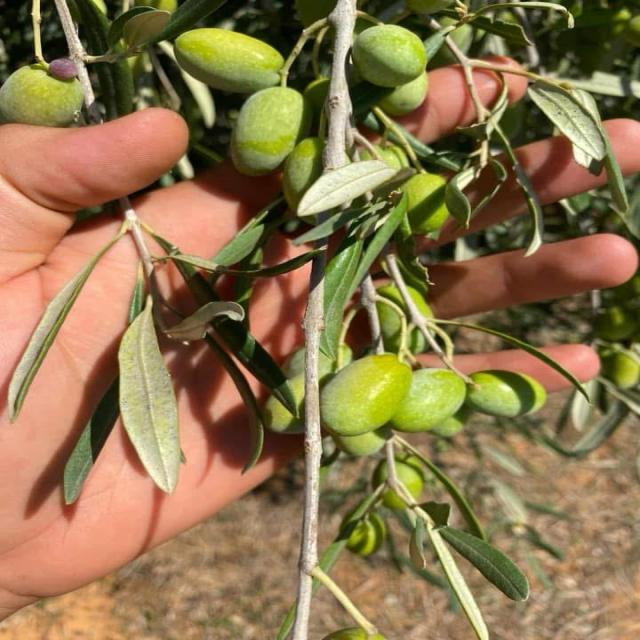Healthy: (321, 353, 411, 437), (230, 86, 312, 176), (173, 28, 284, 94), (353, 23, 427, 87), (392, 368, 466, 432), (466, 370, 546, 417)
